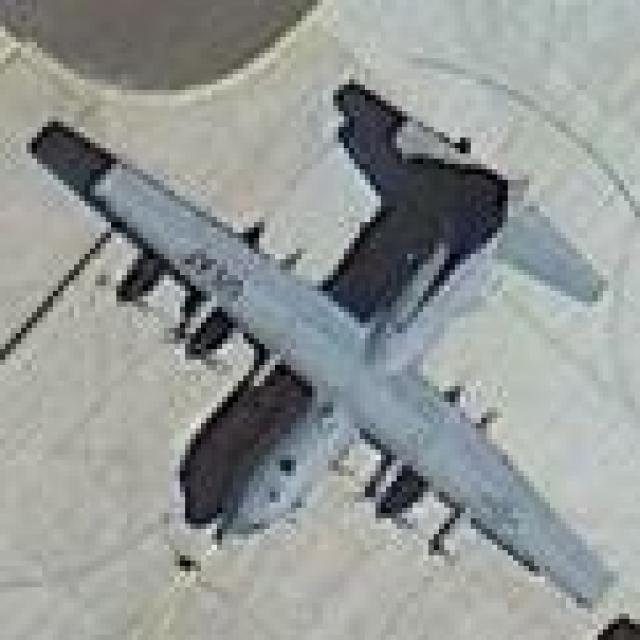C-130_TopDown: (28, 74, 624, 612)
